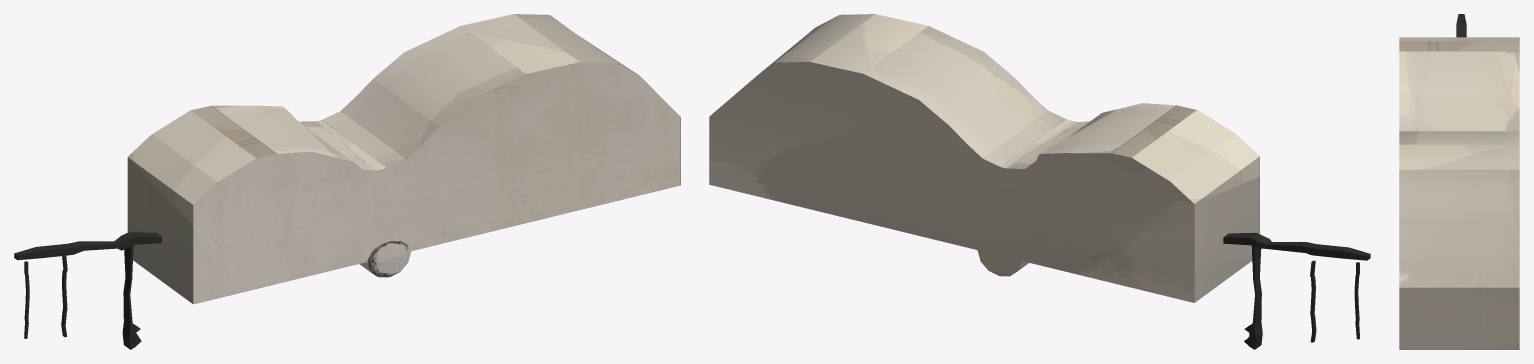
The model's file is Guitar.fbx.
3 views of the same model, side by side, from view 1: azimuth 30°, elevation 25°; view 2: azimuth 150°, elevation 25°; view 3: azimuth 270°, elevation 25° (orthographic). The views are drawn at different scales.
Parts seen in each view (by area): view 1: pCube2, pCube4; view 2: pCube2, pCube4; view 3: pCube2, pCube4.
Part boxes in pixels (x1,y1,x2,y2): pCube2: [127, 14, 680, 304]; pCube4: [14, 232, 161, 349]; pCube2: [709, 14, 1259, 302]; pCube4: [1223, 232, 1370, 349]; pCube2: [1399, 37, 1519, 349]; pCube4: [1456, 14, 1466, 37].
Bounding box in the file's own units: 7.83 × 2.48 × 1.41.
